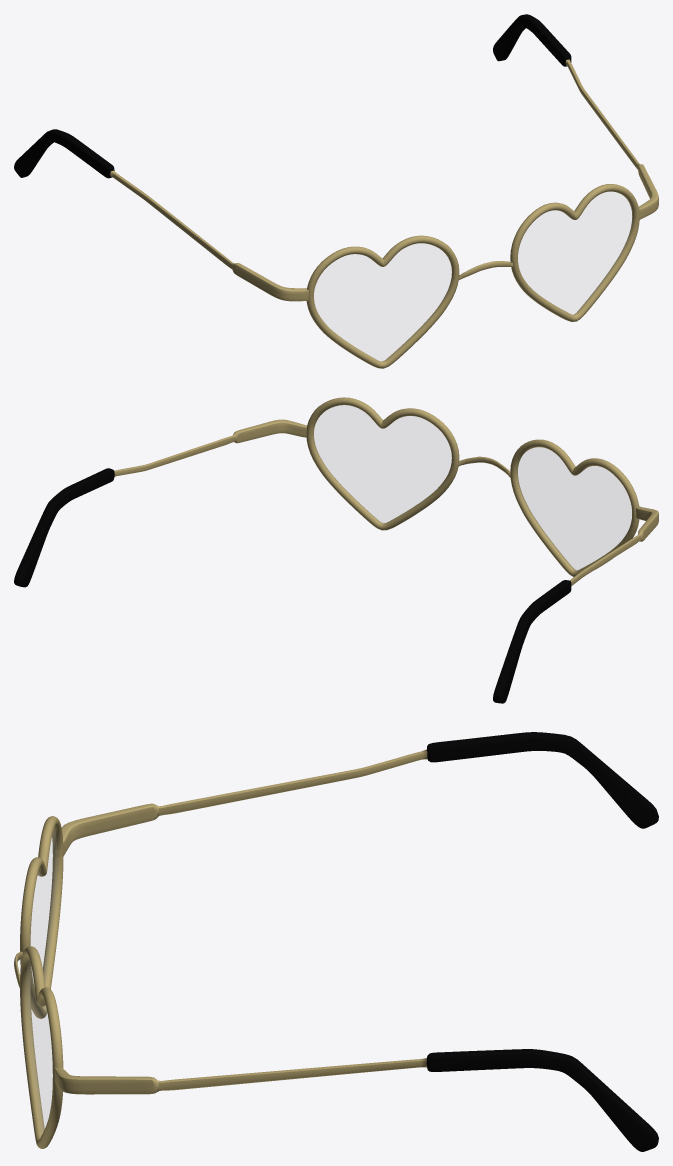
File: glasses03.glb
The picture shows the model from 3 angles, top to bottom: view 1: azimuth 30°, elevation 25°; view 2: azimuth 150°, elevation 25°; view 3: azimuth 270°, elevation 25°; orthographic projection. The views are drawn at different scales.
Visible parts, largest first — view 1: glass, frame; view 2: glass, frame; view 3: frame, glass.
Part boxes in pixels (box(x1,y1,x2,y2)): glass: box(314, 192, 632, 360); frame: box(14, 14, 658, 368); glass: box(314, 405, 631, 569); frame: box(14, 397, 658, 703); frame: box(14, 732, 658, 1151); glass: box(26, 830, 56, 1134).
Size of the model in its own units: 0.139 by 0.0373 by 0.1148.
